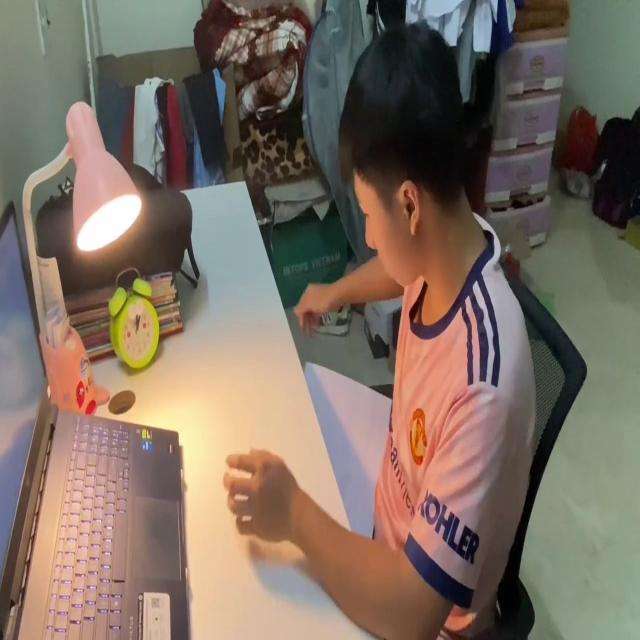book: (306, 354, 393, 546)
laptop: (0, 197, 191, 640)
student: (221, 22, 533, 640)
